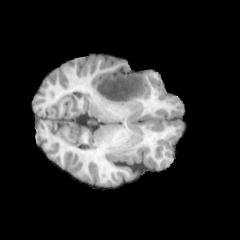glioma: (96, 73, 145, 103)
